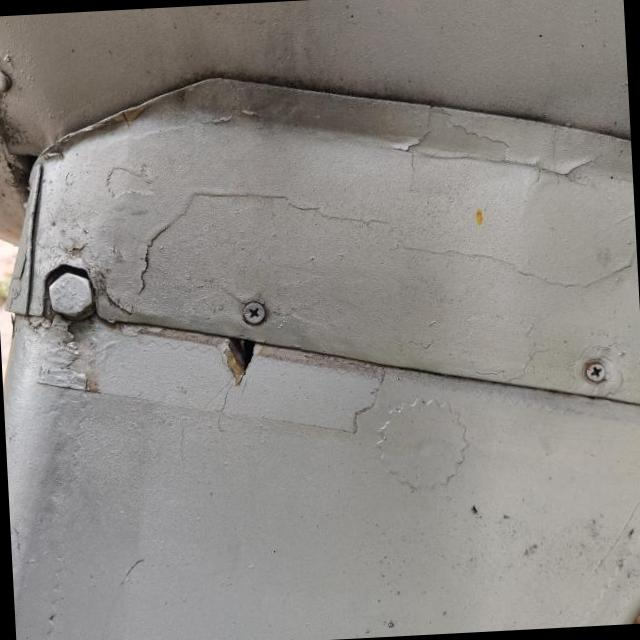Crack: (224, 338, 253, 386)
